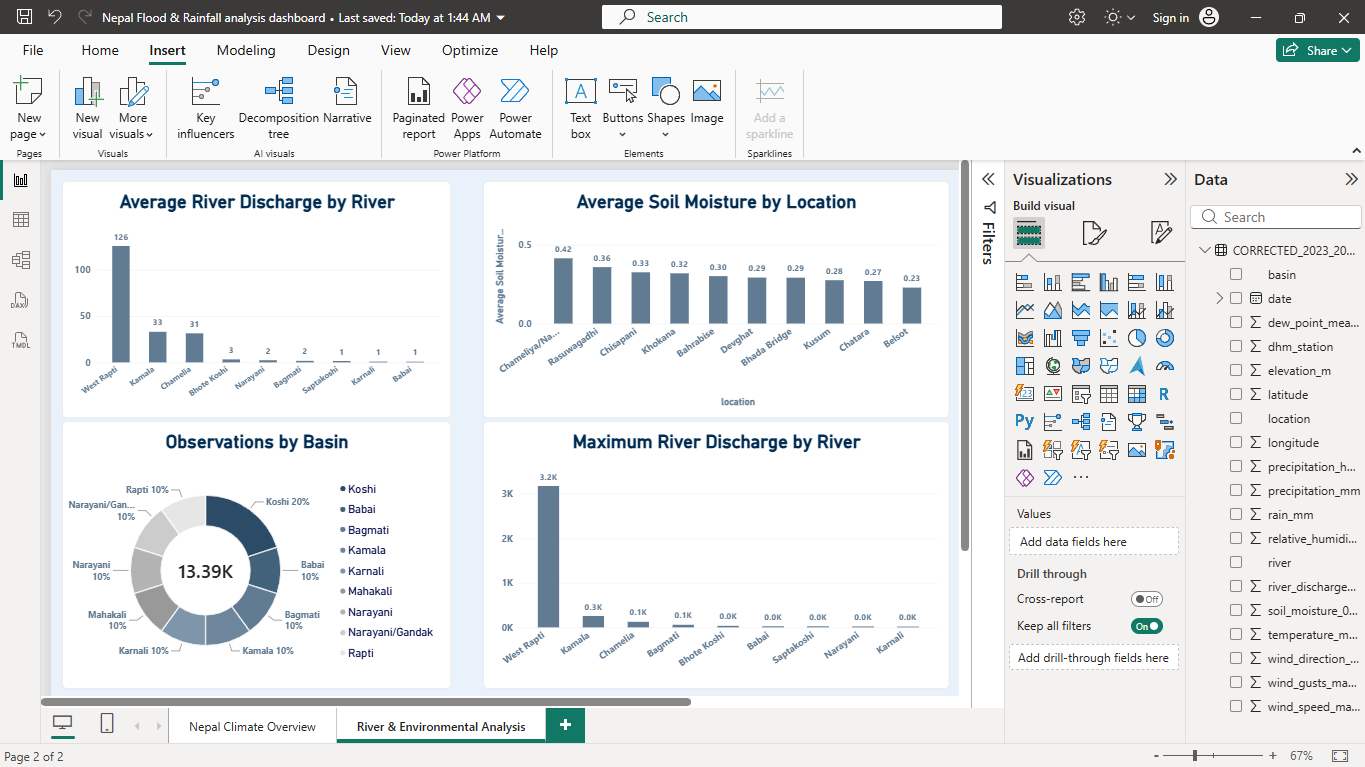

The dashboard page shown, as its layout file describes it:
{"tool":"powerbi","page":{"name":"River & Environmental Analysis","canvas":[1920,1080],"ordinal":1},"visuals":[{"type":"donutChart","title":"Observations by Basin","fields":{"Category":["CORRECTED_2023_2026_NEPAL_FLOOD_WEATHER_KAGGLE.basin"],"Y":["CountNonNull(CORRECTED_2023_2026_NEPAL_FLOOD_WEATHER_KAGGLE.date)"]},"box":[16.4,374.6,580.6,400],"z":0},{"type":"clusteredColumnChart","title":"Average River Discharge by River","fields":{"Category":["CORRECTED_2023_2026_NEPAL_FLOOD_WEATHER_KAGGLE.river"],"Y":["Avg(CORRECTED_2023_2026_NEPAL_FLOOD_WEATHER_KAGGLE.river_discharge_m3s)"]},"box":[16.4,16.4,580.6,353.7],"z":1000},{"type":"clusteredColumnChart","title":"Average Soil Moisture by Location","fields":{"Category":["CORRECTED_2023_2026_NEPAL_FLOOD_WEATHER_KAGGLE.location"],"Y":["Avg(CORRECTED_2023_2026_NEPAL_FLOOD_WEATHER_KAGGLE.soil_moisture_0_100cm_m3m3)"]},"box":[644.8,16.4,695.5,353.7],"z":2000},{"type":"clusteredColumnChart","title":"Maximum River Discharge by River","fields":{"Category":["CORRECTED_2023_2026_NEPAL_FLOOD_WEATHER_KAGGLE.river"],"Y":["Max(CORRECTED_2023_2026_NEPAL_FLOOD_WEATHER_KAGGLE.river_discharge_m3s)"]},"box":[644.8,374.6,695.5,400],"z":3000}]}

Visuals, with their boxes on the page's 1920x1080 design canvas (x1, y1, x2, y2). These are canvas units, not pixel positions in the 1365x767 screenshot, which may show the page scaled, cropped or inside an application window:
"Observations by Basin" donutChart: 16, 375, 597, 775
"Average River Discharge by River" clusteredColumnChart: 16, 16, 597, 370
"Average Soil Moisture by Location" clusteredColumnChart: 645, 16, 1340, 370
"Maximum River Discharge by River" clusteredColumnChart: 645, 375, 1340, 775
